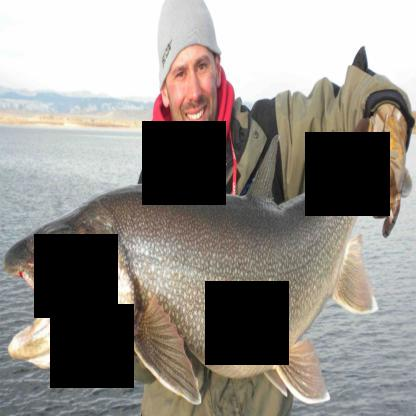fish: (3, 110, 408, 402)
